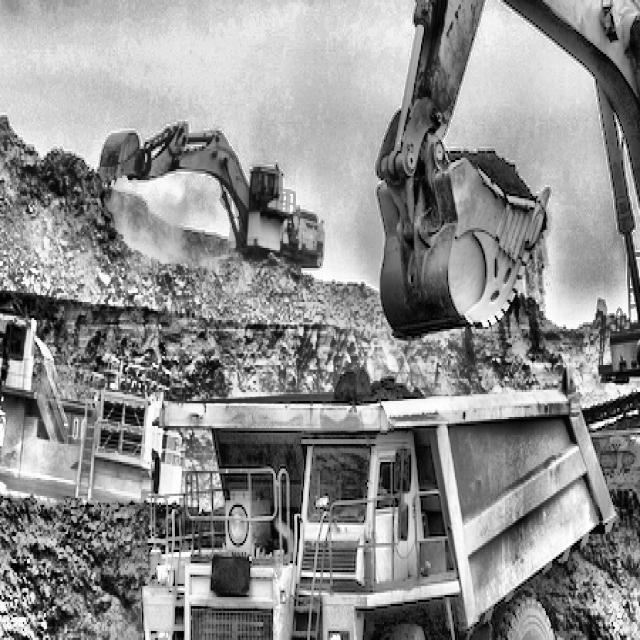dump_truck: (99, 345, 602, 640)
excavator: (365, 0, 640, 507), (89, 79, 358, 309)
